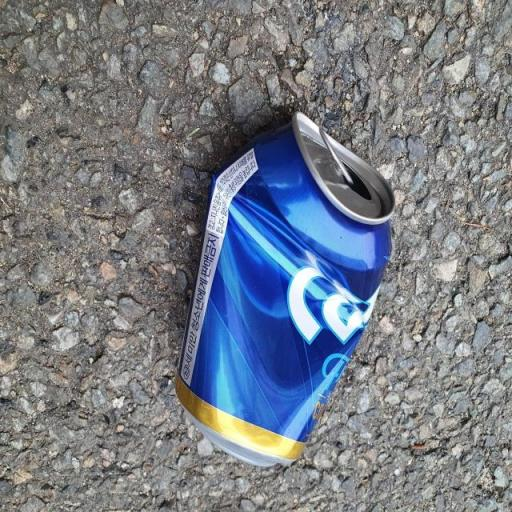metal: (142, 92, 408, 487)
